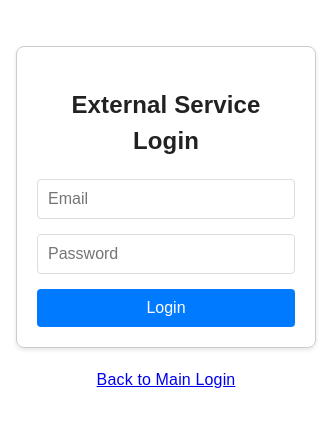
Test case: SimpleExternalLoginPage › shows an error message on failed login (server-side error)
In the field with placeholder "Email": (166, 199) [37,179,295,219], type "wrong@example.com"
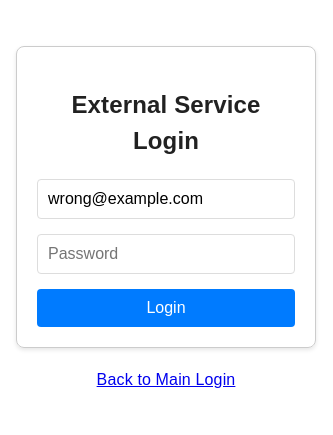
In the password field with placeholder "Password": (166, 254) [37,234,295,274], type "wrongpassword"
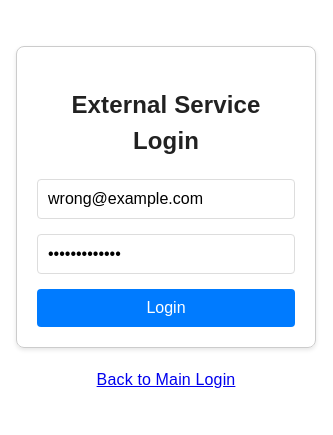
Click the button "Login": (166, 308) [37,289,295,327]
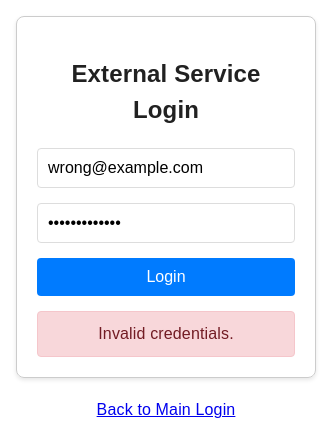
expect the text "Invalid credentials." is shown: met, box [37,312,295,358]
